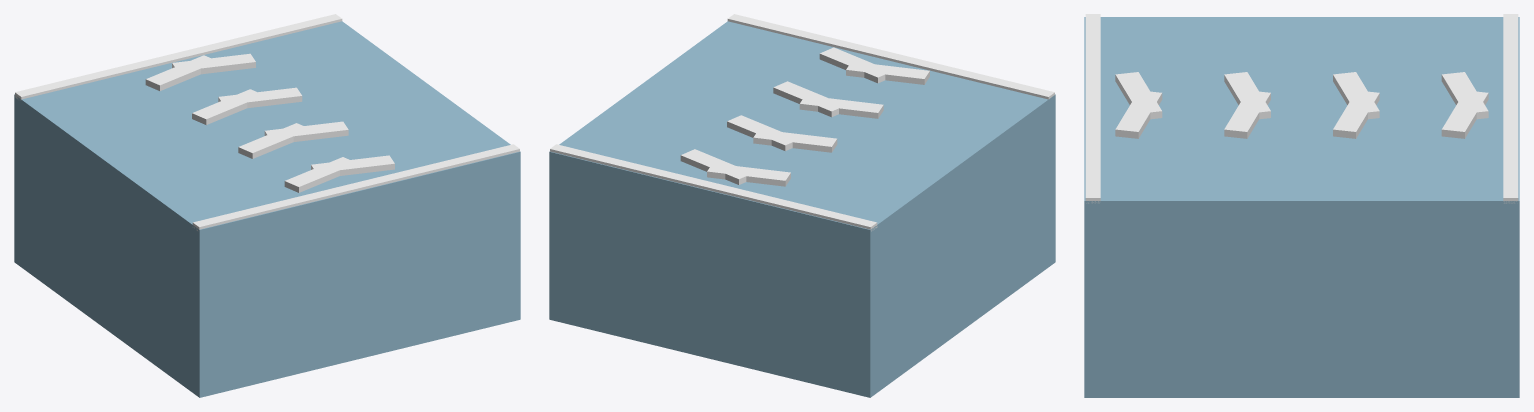
The model's file is OnOffConveyorA_TopHalf.glb.
3 views of the same model, side by side, from view 1: azimuth 30°, elevation 25°; view 2: azimuth 150°, elevation 25°; view 3: azimuth 270°, elevation 25° (orthographic). The views are drawn at different scales.
Parts seen in each view (by area): view 1: OnOffConveyorA_TopHalf_body, rail_0.012, rail_-0.012, chev_1_-1.012, chev_2_-1.012, chev_0_1.012, chev_3_1.012, chev_3_-1.012, chev_0_-1.012, chev_2_1.012, chev_1_1.012; view 2: OnOffConveyorA_TopHalf_body, rail_0.012, rail_-0.012, chev_2_1.012, chev_1_1.012, chev_0_1.012, chev_3_1.012, chev_3_-1.012, chev_0_-1.012, chev_1_-1.012, chev_2_-1.012; view 3: OnOffConveyorA_TopHalf_body, rail_0.012, rail_-0.012, chev_0_1.012, chev_3_1.012, chev_1_1.012, chev_2_1.012, chev_0_-1.012, chev_3_-1.012, chev_1_-1.012, chev_2_-1.012.
Part boxes in pixels (x1,y1,x2,y2): OnOffConveyorA_TopHalf_body: (14, 21, 520, 397); rail_0.012: (15, 14, 342, 100); rail_-0.012: (192, 144, 519, 230); chev_1_-1.012: (264, 121, 348, 141); chev_2_-1.012: (218, 87, 302, 108); chev_0_1.012: (284, 157, 356, 192); chev_3_1.012: (145, 55, 217, 90); chev_3_-1.012: (172, 53, 255, 74); chev_0_-1.012: (311, 155, 394, 175); chev_2_1.012: (192, 89, 256, 124); chev_1_1.012: (238, 123, 303, 158); OnOffConveyorA_TopHalf_body: (549, 21, 1055, 397); rail_0.012: (550, 144, 877, 231); rail_-0.012: (727, 14, 1054, 99); chev_2_1.012: (753, 129, 837, 152); chev_1_1.012: (799, 95, 883, 118); chev_0_1.012: (846, 61, 929, 84); chev_3_1.012: (707, 163, 790, 186); chev_3_-1.012: (680, 149, 752, 184); chev_0_-1.012: (819, 47, 891, 83); chev_1_-1.012: (773, 81, 844, 117); chev_2_-1.012: (727, 115, 792, 151); OnOffConveyorA_TopHalf_body: (1084, 17, 1519, 397); rail_0.012: (1503, 14, 1518, 203); rail_-0.012: (1085, 14, 1100, 203); chev_0_1.012: (1115, 72, 1162, 119); chev_3_1.012: (1441, 72, 1488, 119); chev_1_1.012: (1224, 72, 1270, 119); chev_2_1.012: (1333, 72, 1379, 119); chev_0_-1.012: (1115, 91, 1162, 138); chev_3_-1.012: (1441, 91, 1488, 138); chev_1_-1.012: (1224, 91, 1270, 138); chev_2_-1.012: (1333, 91, 1379, 138).
Bounding box in the file's own units: 1 × 0.5175 × 1.
